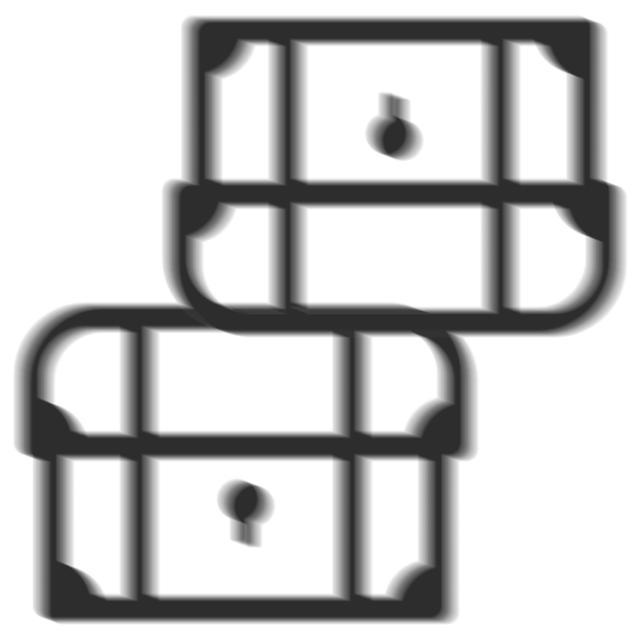treasure_box: (8, 286, 496, 634), (146, 11, 631, 354)
